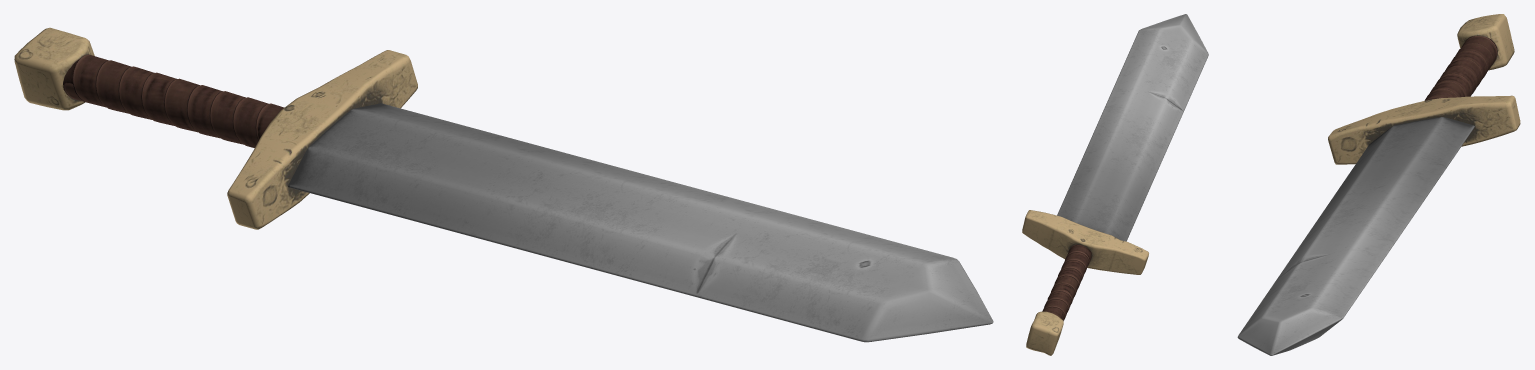
Rendered from stylized_sword.glb.
3 views of the same model, side by side, from view 1: azimuth 30°, elevation 25°; view 2: azimuth 150°, elevation 25°; view 3: azimuth 330°, elevation 25° (orthographic). The views are drawn at different scales.
Parts seen in each view (by area): view 1: Sword; view 2: Sword; view 3: Sword.
Boxes of the visible parts, <box> form: Sword: <box>14,27,993,342</box>; Sword: <box>1022,14,1208,355</box>; Sword: <box>1237,14,1520,355</box>.
Bounding box in the file's own units: 37.8 × 15.08 × 105.
Materials: 1 (1 with a texture image).
